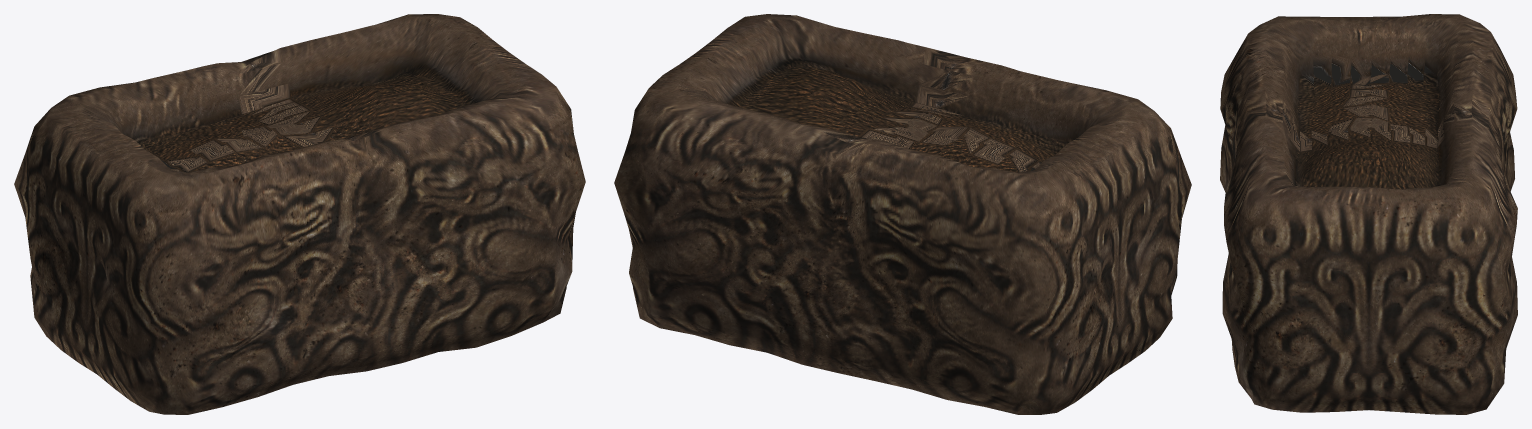
Rendered from MD-明神龛香炉下.fbx.
3 views of the same model, side by side, from view 1: azimuth 30°, elevation 25°; view 2: azimuth 150°, elevation 25°; view 3: azimuth 270°, elevation 25° (orthographic). The views are drawn at different scales.
Visible parts, largest first — view 1: MD-明神龛香炉下; view 2: MD-明神龛香炉下; view 3: MD-明神龛香炉下.
Part boxes in pixels (x1,y1,x2,y2): MD-明神龛香炉下: (14,14,585,414); MD-明神龛香炉下: (614,14,1191,414); MD-明神龛香炉下: (1220,14,1517,414).
Size of the model in its own units: 0.1553 by 0.0941 by 0.0792.
